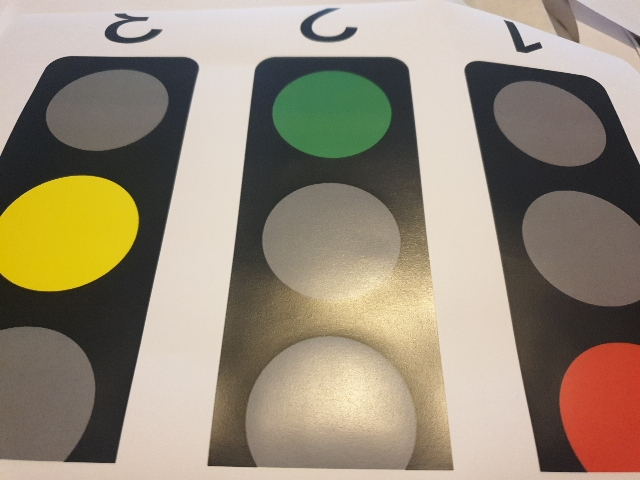amber: (45, 65, 118, 456)
green: (267, 62, 419, 460)
red: (488, 75, 638, 459)
